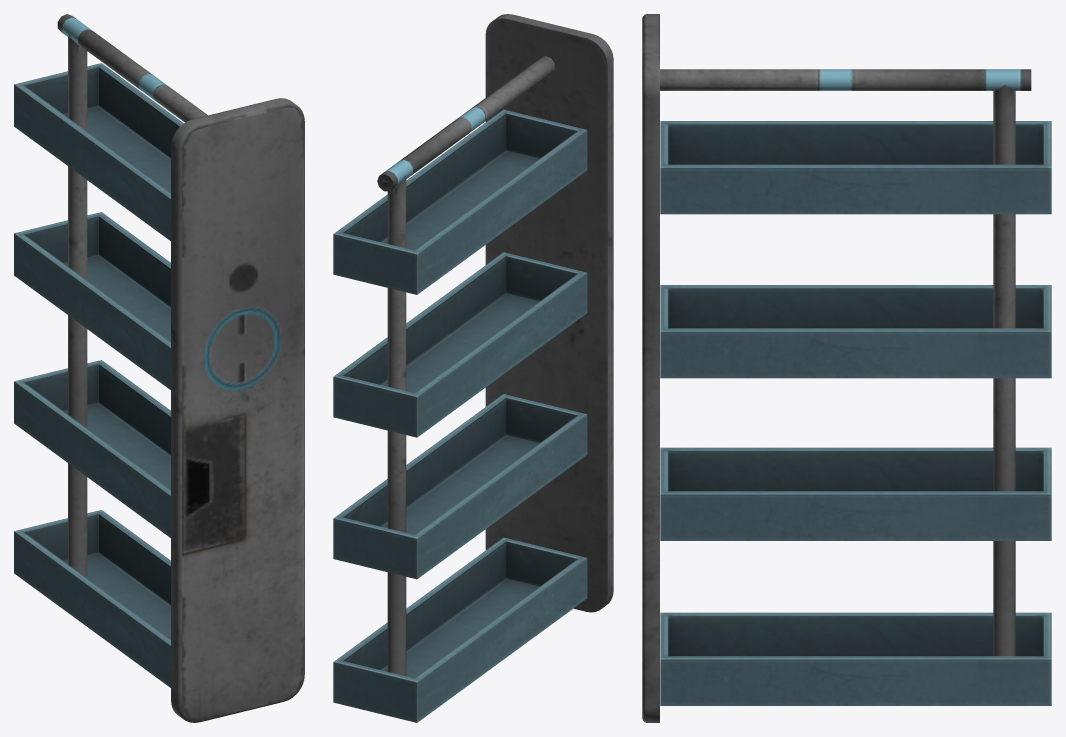
The model's file is drawer.dae.
3 renders of one model, left to right at view 1: azimuth 30°, elevation 25°; view 2: azimuth 150°, elevation 25°; view 3: azimuth 270°, elevation 25°, orthographic. The views are drawn at different scales.
Parts seen in each view (by area): view 1: drawer; view 2: drawer; view 3: drawer.
Boxes of the visible parts, x1=… form: drawer: x1=14, y1=14, x2=304, y2=722; drawer: x1=333, y1=14, x2=613, y2=722; drawer: x1=642, y1=14, x2=1051, y2=722.
Size of the model in its own units: 0.3563 by 1.6 by 0.9006.
1 material, 1 textured.
